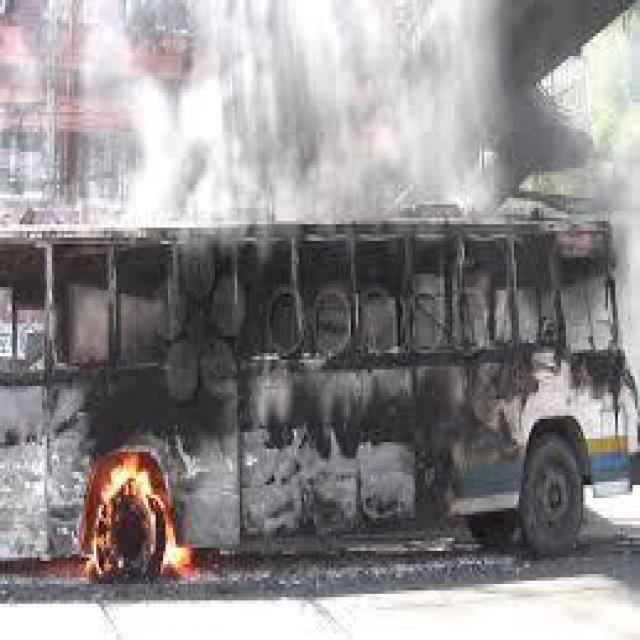fire: (55, 436, 217, 590)
other: (95, 30, 233, 231)
